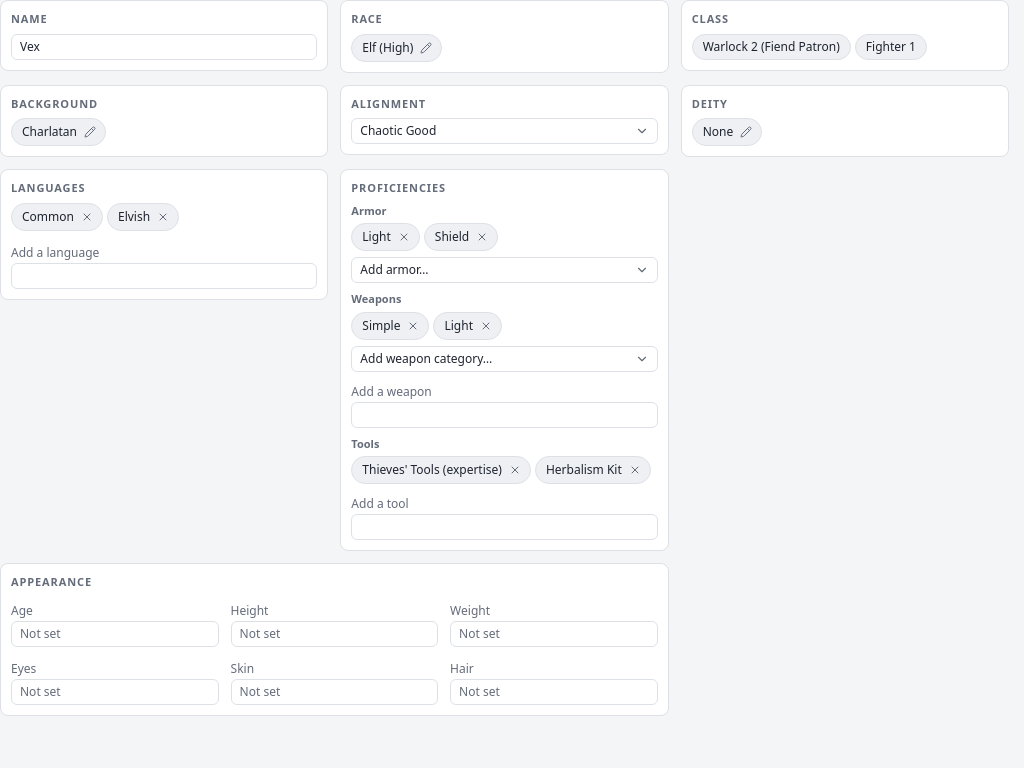
IdentitySection › toasts a failed save in the Appearance card with Retry, leaving the card as it was
Step 1. Type "Nyx" into the field labelled "Hair" → (554, 692), box [450, 678, 658, 704]
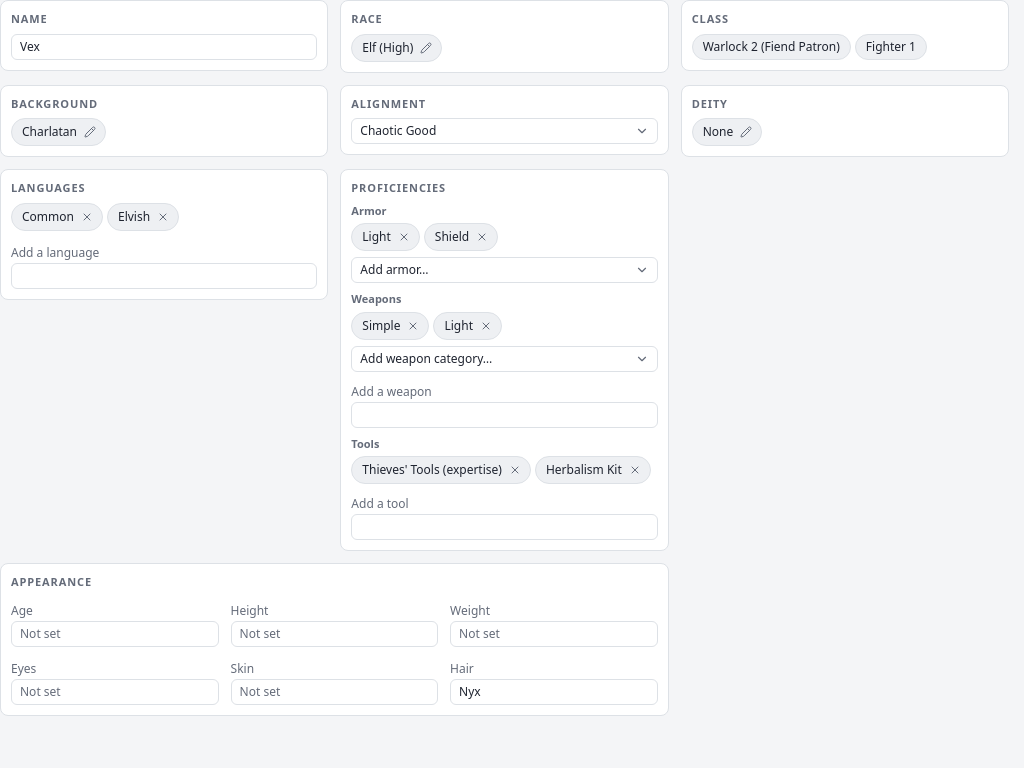
Step 2. Leave the field labelled "Hair", box [450, 678, 658, 704]
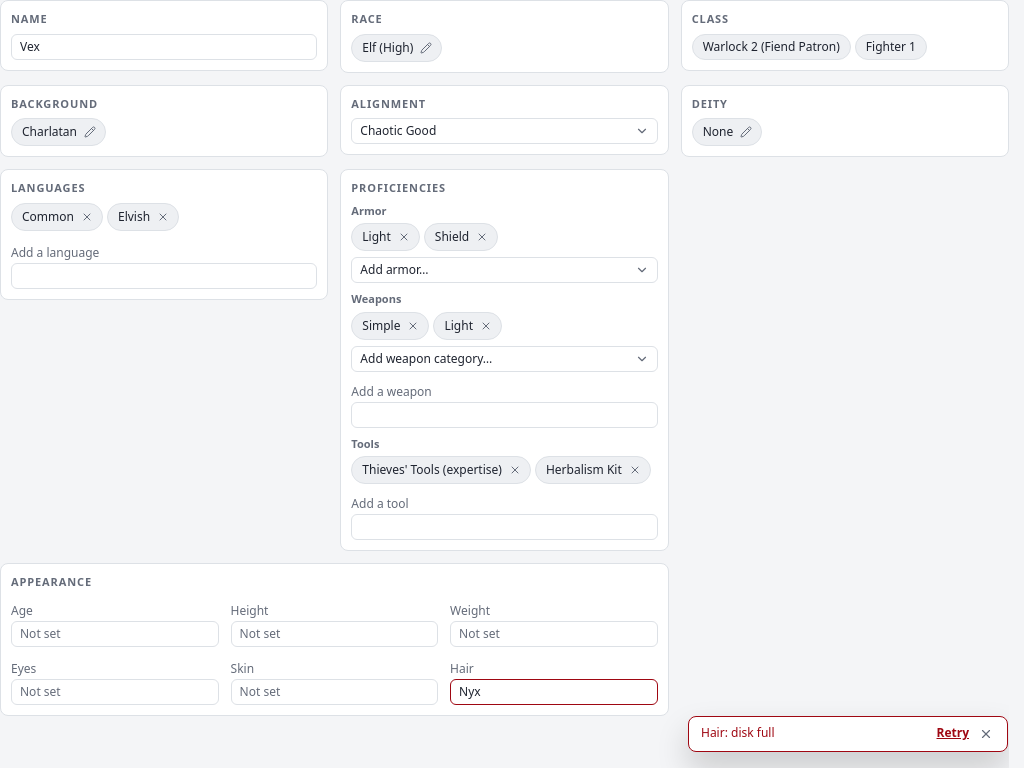
expect the element "Appearance" does not show "disk full": met, box [0, 563, 669, 716]
expect the button "Retry " is shown: met, box [936, 725, 969, 741]
